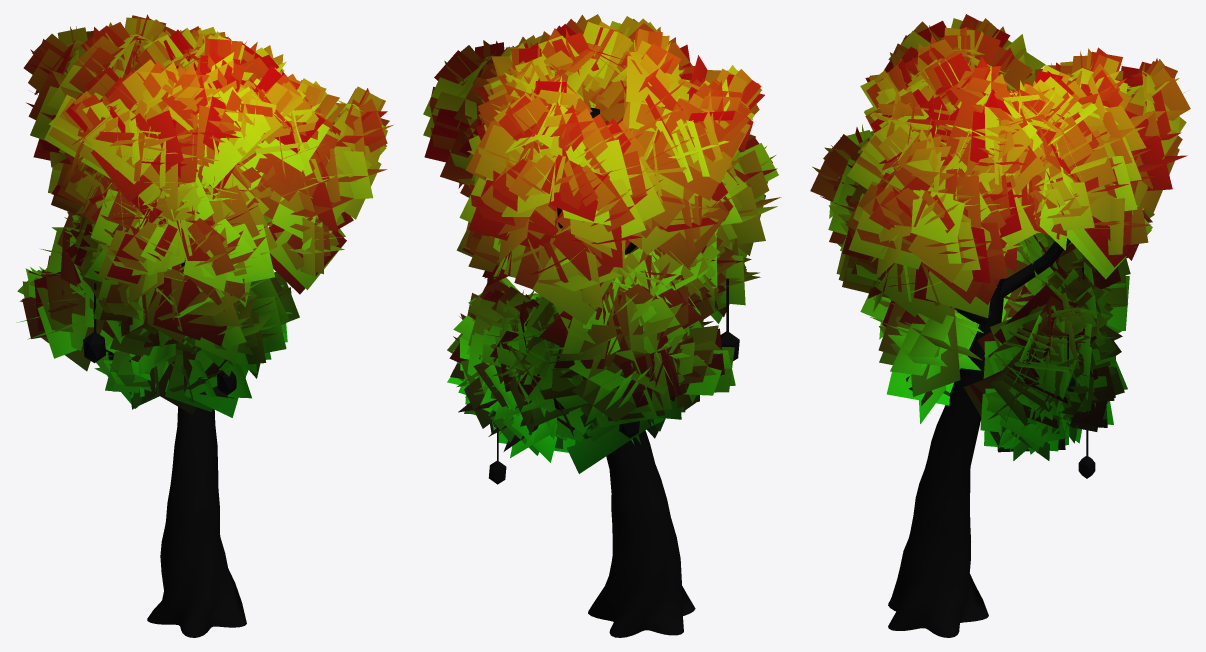
Rendered from env_tree_bg_qt_twisted_5.fbx.
The picture shows the model from 3 angles, left to right: view 1: azimuth 30°, elevation 25°; view 2: azimuth 150°, elevation 25°; view 3: azimuth 270°, elevation 25°; orthographic projection. The views are drawn at different scales.
Visible parts, largest first — view 1: env_tree_bg_qt_twisted_5; view 2: env_tree_bg_qt_twisted_5; view 3: env_tree_bg_qt_twisted_5.
Part boxes in pixels (<box>): env_tree_bg_qt_twisted_5: <box>16,14,393,637</box>; env_tree_bg_qt_twisted_5: <box>423,14,781,637</box>; env_tree_bg_qt_twisted_5: <box>810,14,1190,637</box>.
Bounding box in the file's own units: 9.49 × 15.66 × 9.39.
